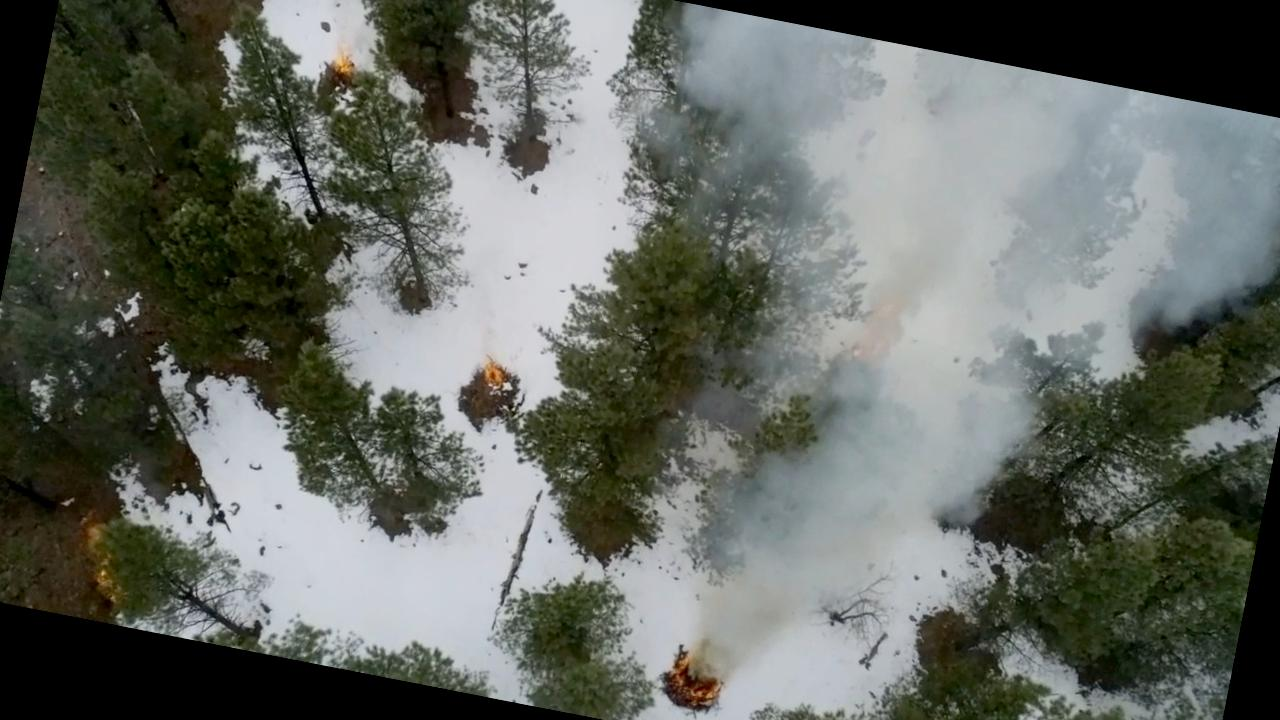fire: (656, 616, 750, 712), (854, 273, 918, 363), (471, 346, 516, 402)
smoke: (820, 41, 1267, 442), (738, 342, 1048, 602), (658, 4, 884, 207)
